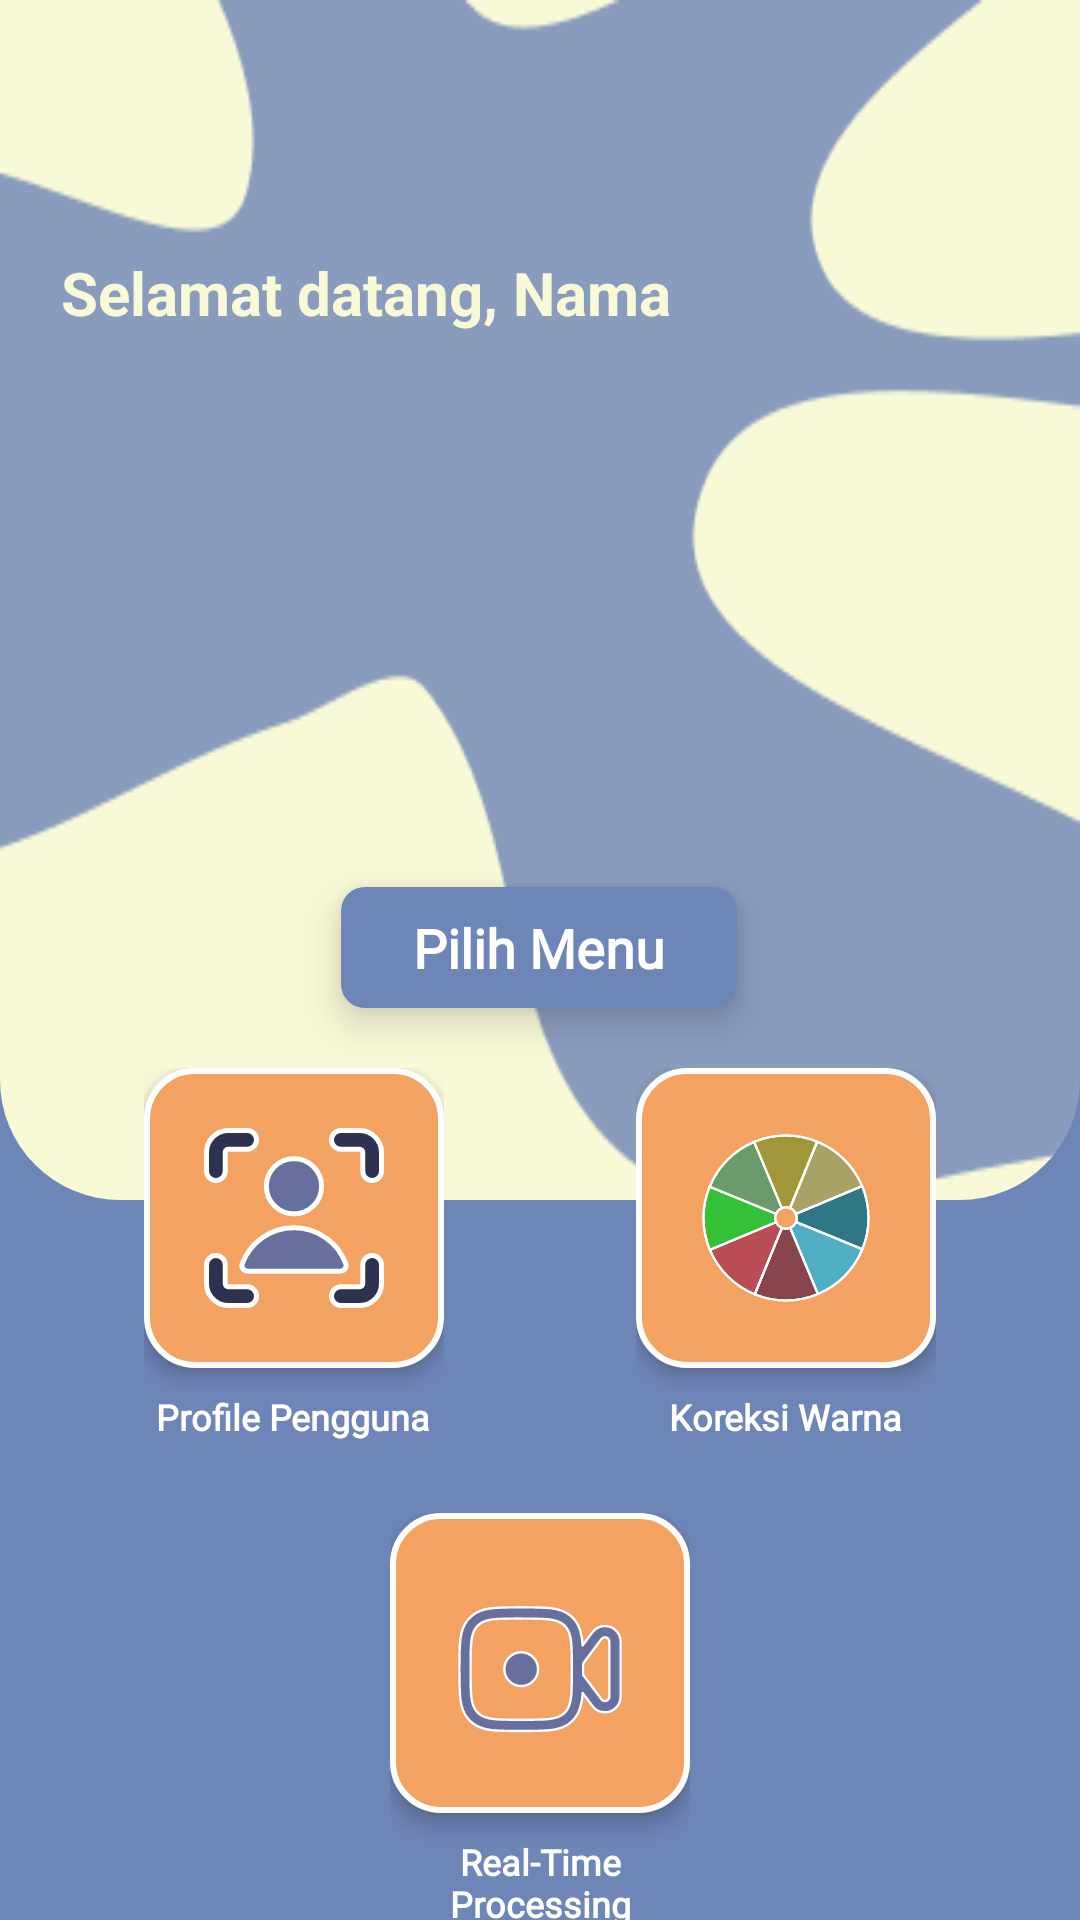

Named icons in this screenshot (1080 x 1920) and their centers, (x,y):
camera: (540,1663)
